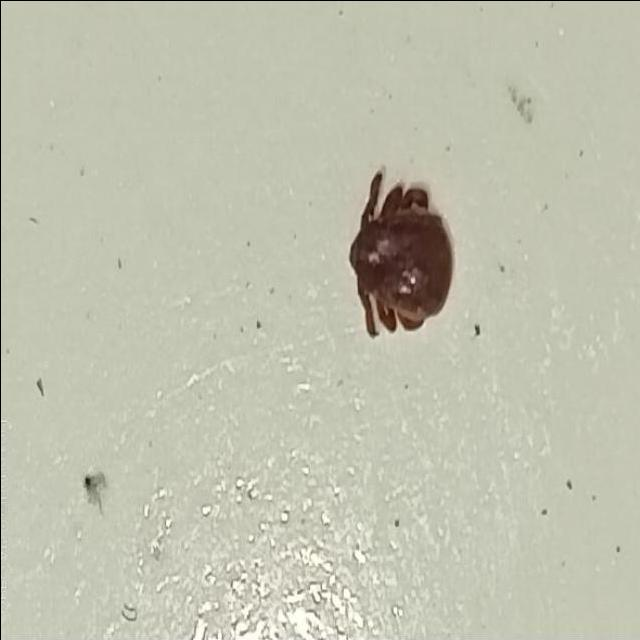Rhipicephalus Sanguineus-M: (345, 170, 453, 339)
